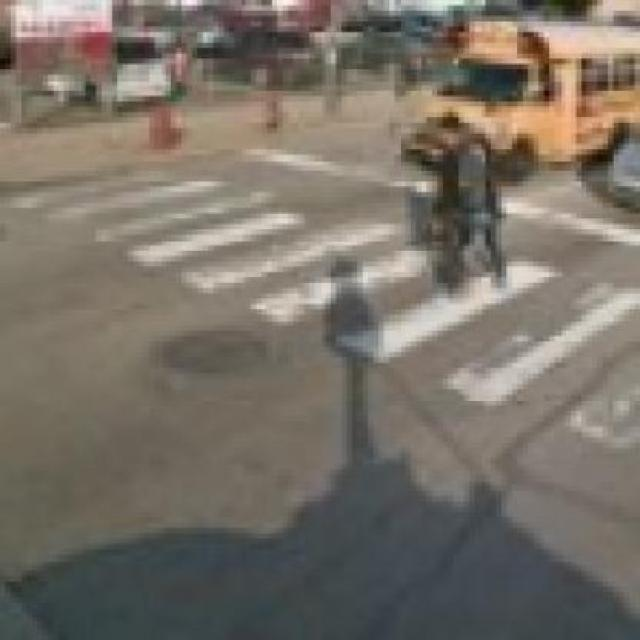crosswalk: (11, 166, 637, 448)
